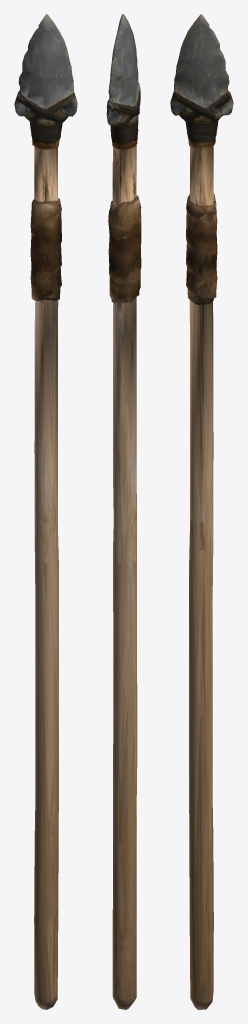
The model's file is spear.glb.
The picture shows the model from 3 angles, left to right: view 1: azimuth 90°, elevation 25°; view 2: azimuth 150°, elevation 25°; view 3: azimuth 270°, elevation 25°; orthographic projection.
Visible parts, largest first — view 1: Mesh_0; view 2: Mesh_0; view 3: Mesh_0.
Boxes of the visible parts, box(x1,y1,x2,y2) form: Mesh_0: box(14, 14, 77, 1009); Mesh_0: box(106, 14, 141, 1009); Mesh_0: box(170, 14, 233, 1009).
Size of the model in its own units: 0.062 by 2.1 by 0.1213.
Materials: 1 (1 with a texture image).
